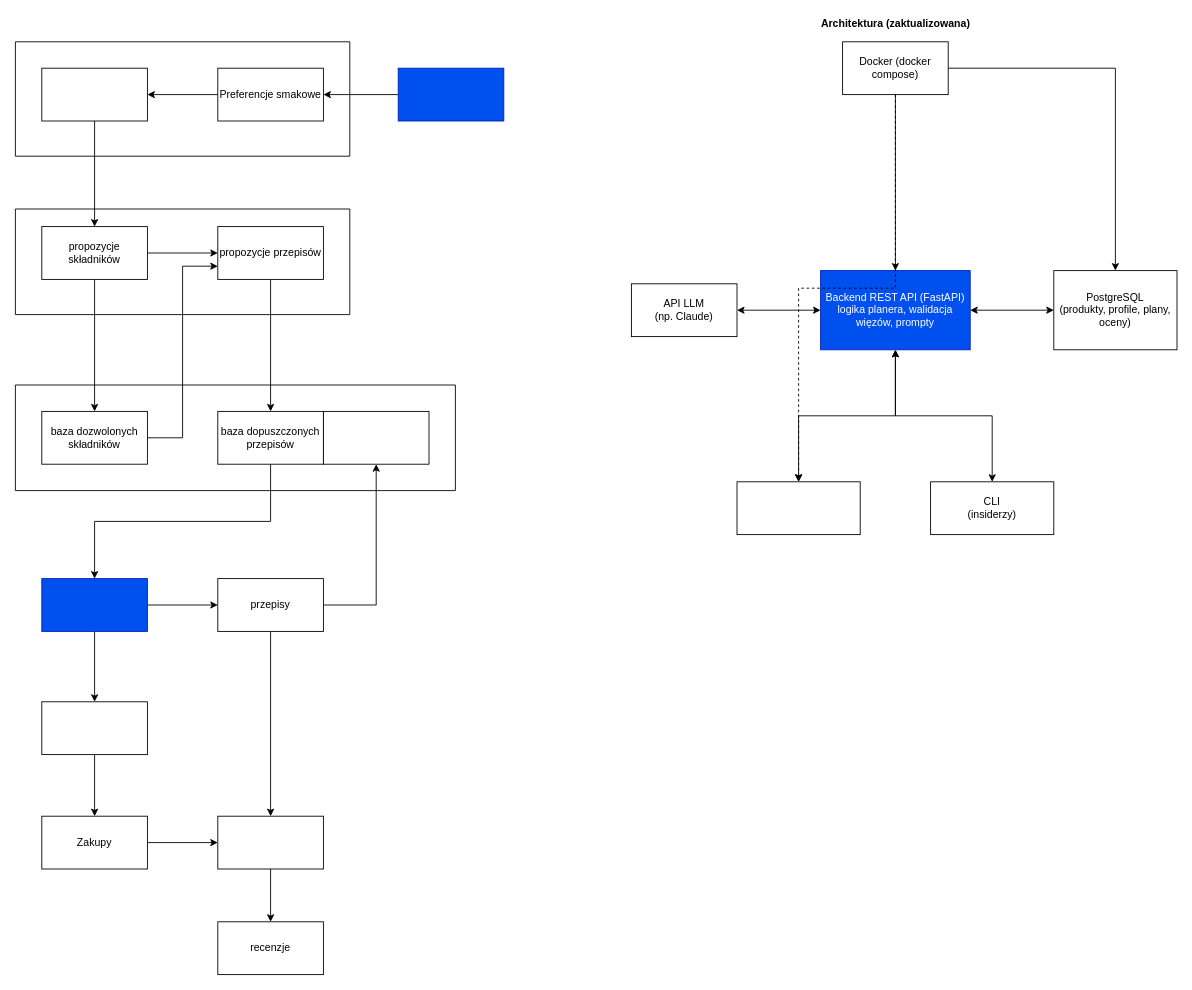
This 1192x990 diagram has some shape labels left out. Each missing label, with the centre of its shape:
"ankieta preferencji" goes at point 450,94.
"baza wykorzystanych przepisów" goes at point 376,437.
"Bot Discord (domownicy)" goes at point 798,508.
"gotowanie" goes at point 270,842.
"plan zakupów" goes at point 94,728.
"plan żywienia" goes at point 94,604.
"Założenia diety" goes at point 94,94.
